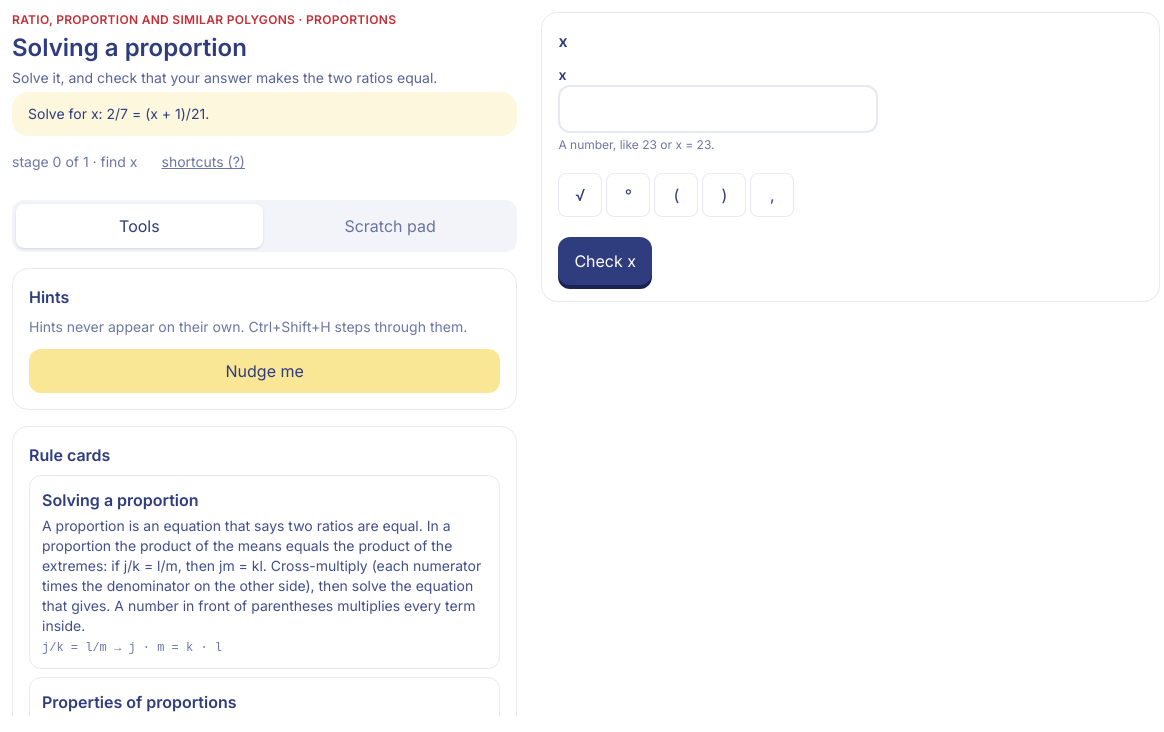
GeometryFlow unit 6 geoRatios/gr.proportion › an unreadable answer records nothing
The width and height of the screenshot is (1164, 732).
Click the button "Check x": click(605, 261) [558, 237, 652, 285]
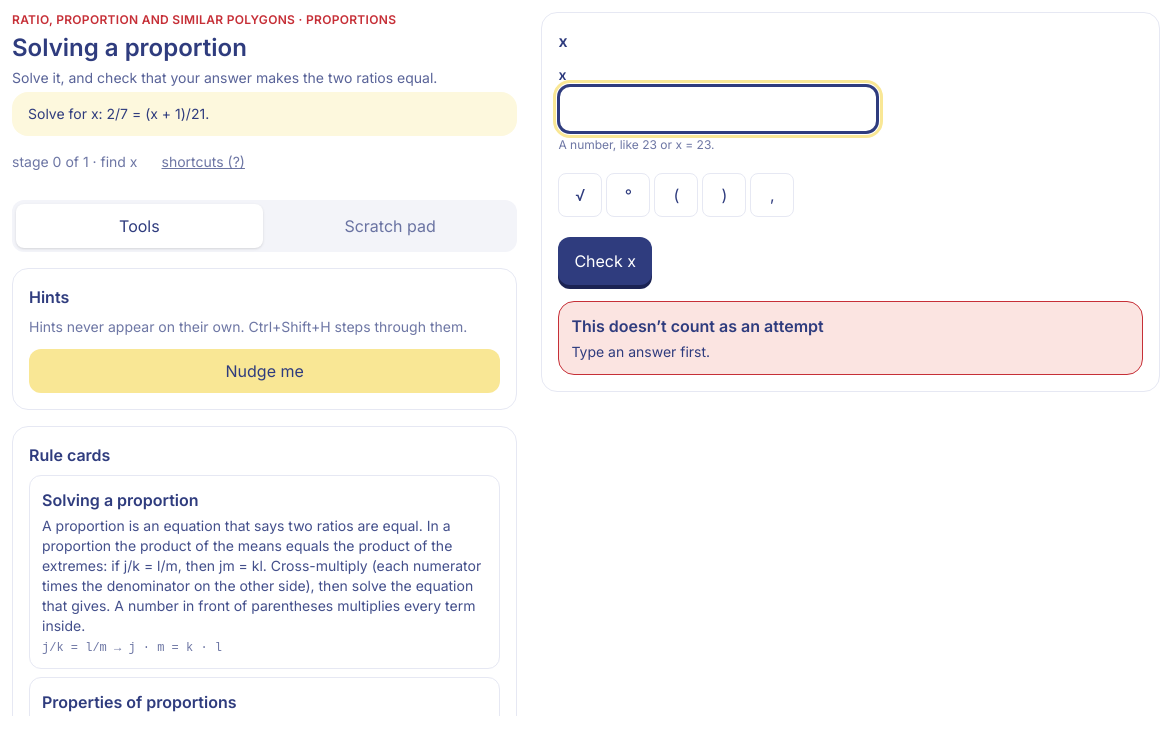
Expected: the message shows "This doesn’t count as an attempt", [571, 316, 824, 336]
In the field labelled "x": (718, 109) [558, 85, 878, 133], type "???"
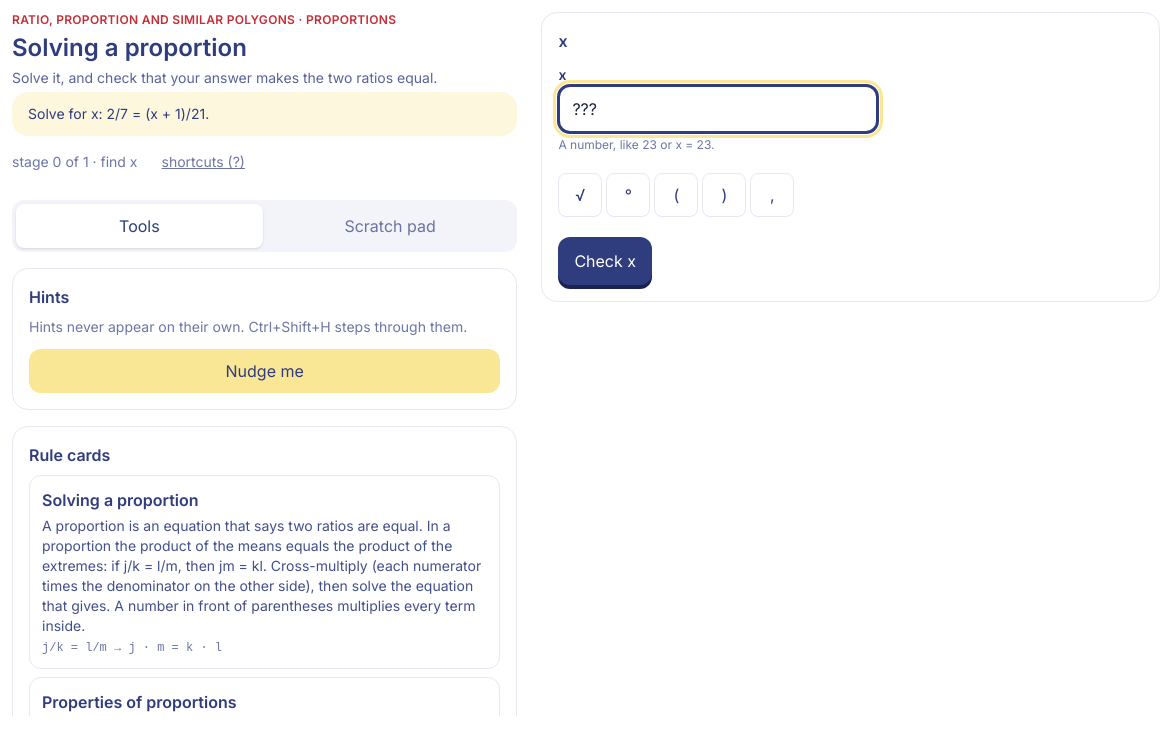
Expected: the message "This doesn’t count as an attempt Type an answer first." is gone
Click the button "Check x": click(605, 261) [558, 237, 652, 285]
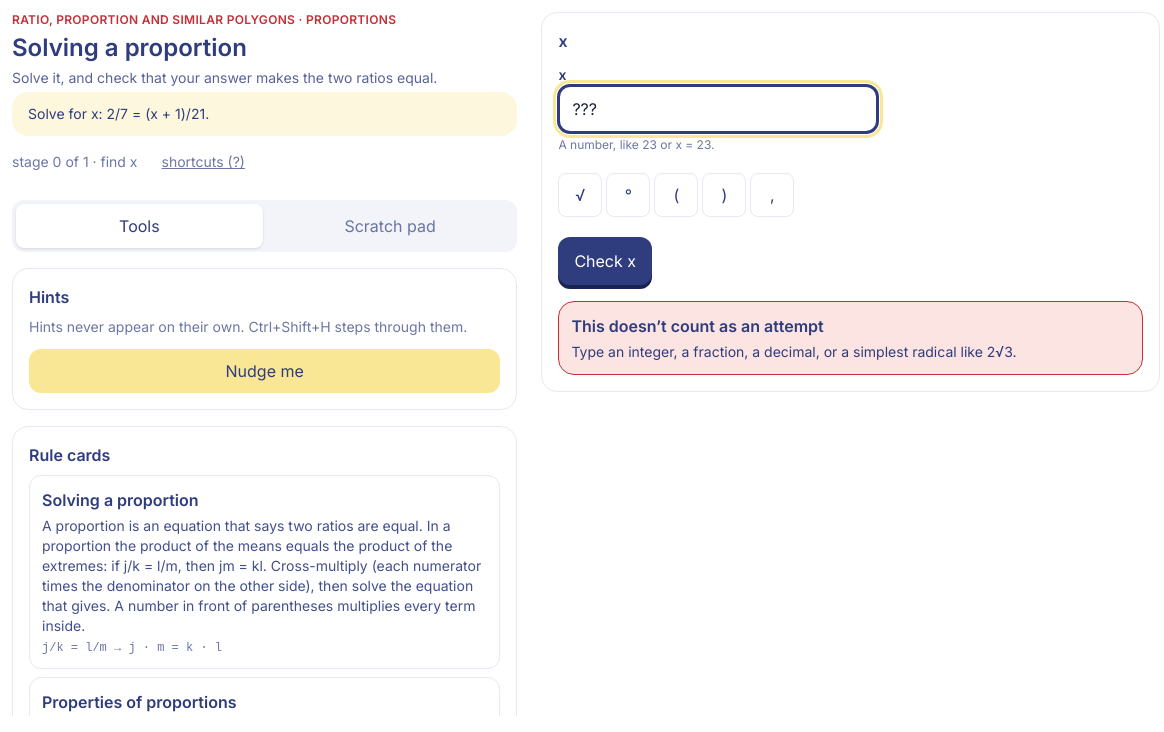
Expected: the message shows "This doesn’t count as an attempt", [571, 316, 824, 336]
